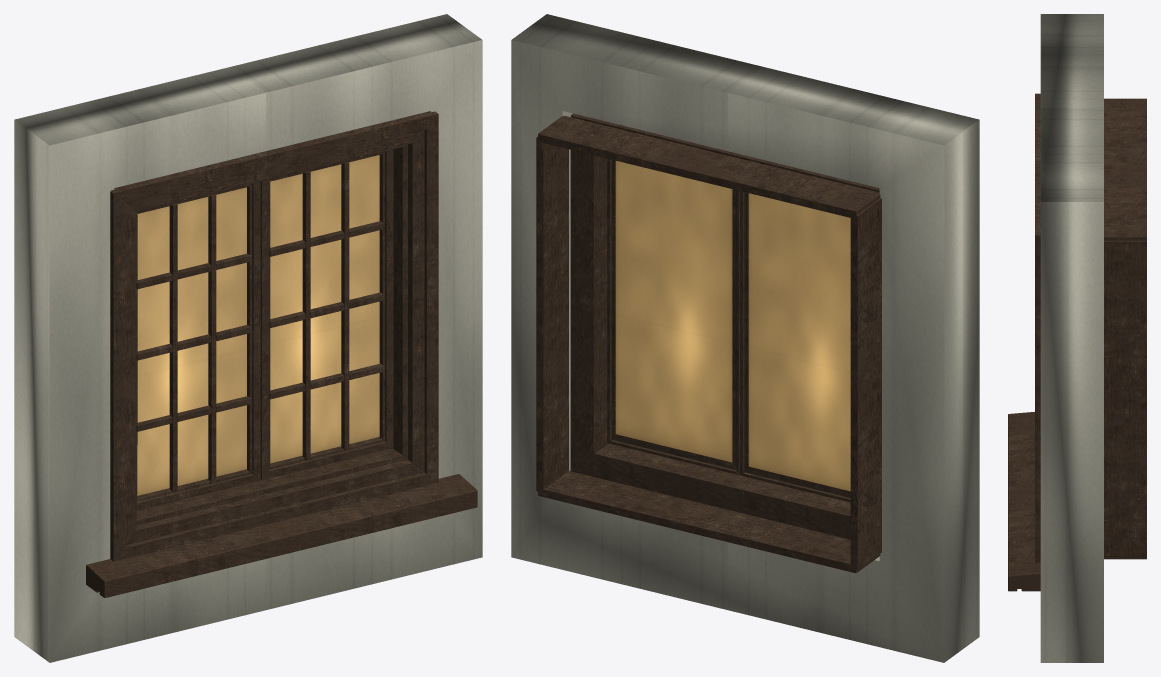
The model's file is window_infill_candidate.glb.
3 renders of one model, left to right at view 1: azimuth 30°, elevation 25°; view 2: azimuth 150°, elevation 25°; view 3: azimuth 270°, elevation 25°, orthographic. The views are drawn at different scales.
Parts seen in each view (by area): view 1: WindowInfill_Geometry; view 2: WindowInfill_Geometry; view 3: WindowInfill_Geometry.
Boxes of the visible parts, x1,y1,x2,y2 form: WindowInfill_Geometry: (14, 14, 482, 662); WindowInfill_Geometry: (511, 14, 979, 662); WindowInfill_Geometry: (1008, 14, 1146, 662).
Size of the model in its own units: 1.97 by 2.25 by 0.615.
Materials: 5 (4 with a texture image).
